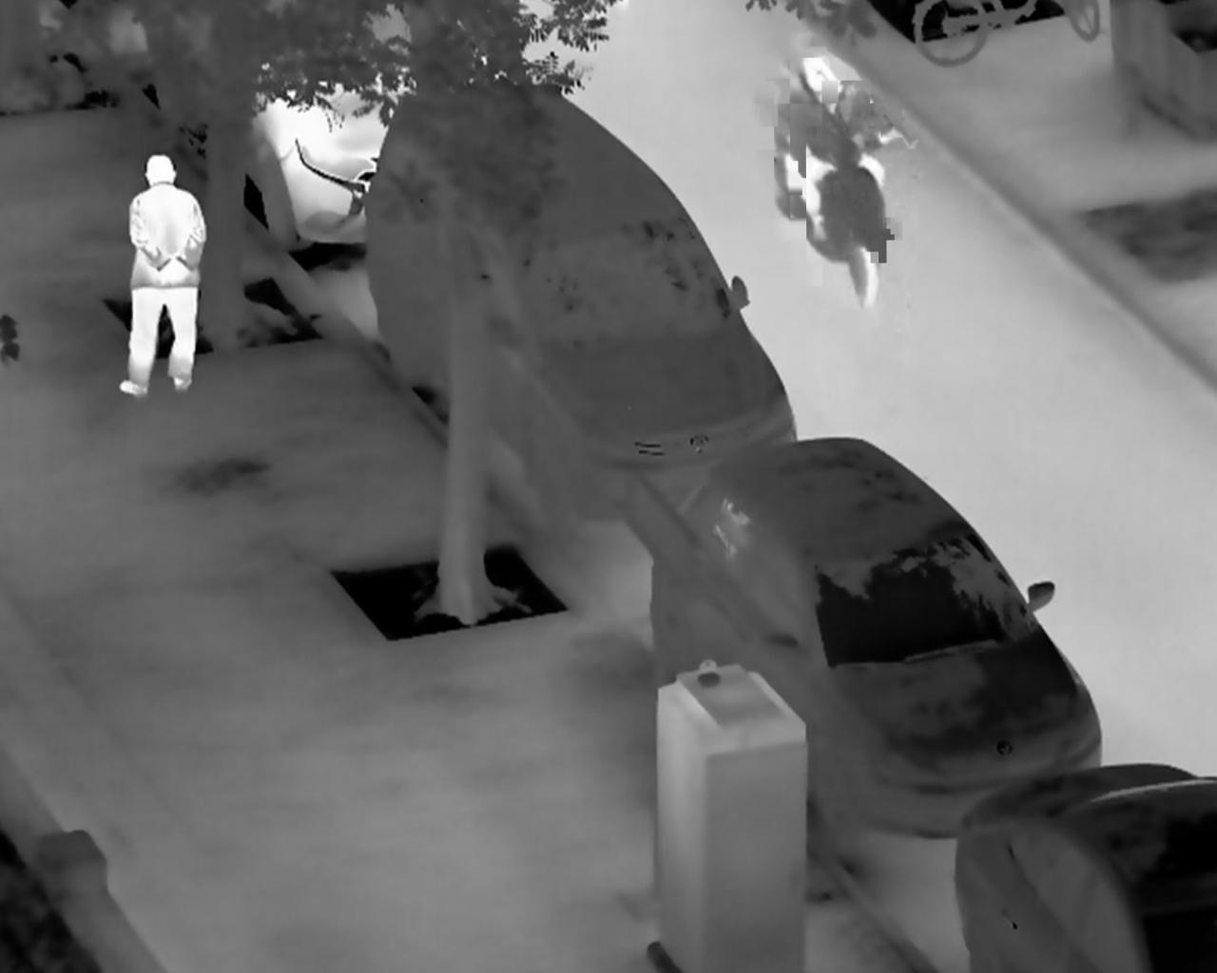person: (778, 51, 898, 248), (116, 153, 208, 399)
